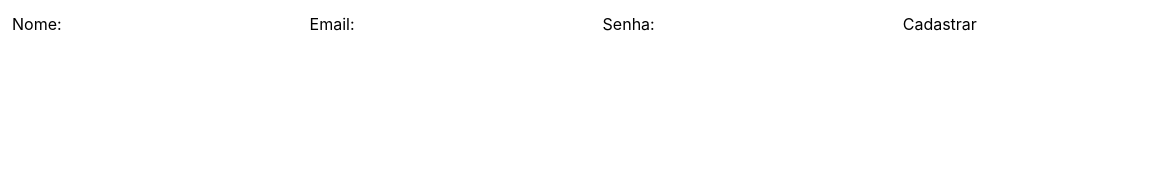
it: Test the Login page › Test registering › with already existed user
Type "Teste Teste Teste" into the field labelled "Nome:". click: [186, 24]
box: [62,12,310,36]
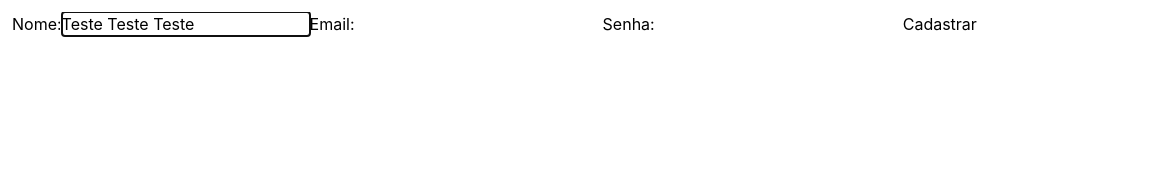
Type "test@email.com" into the field labelled "Email:". click: [479, 24]
box: [355,12,603,36]
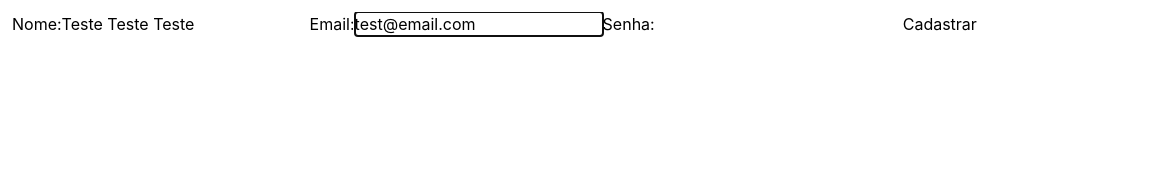
Type "12345678" into the password field labelled "Senha:". click: [779, 24]
box: [655,12,903,36]
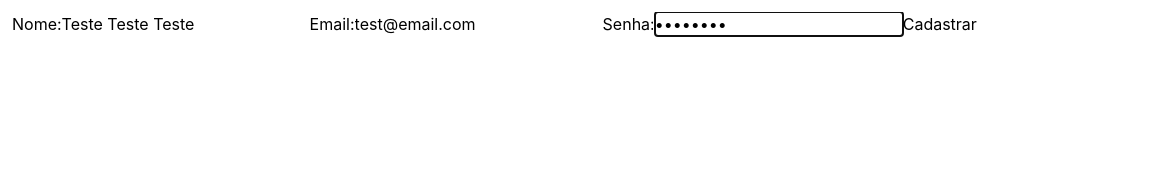
Click the button "Cadastrar". click: [940, 24]
box: [903,12,977,36]
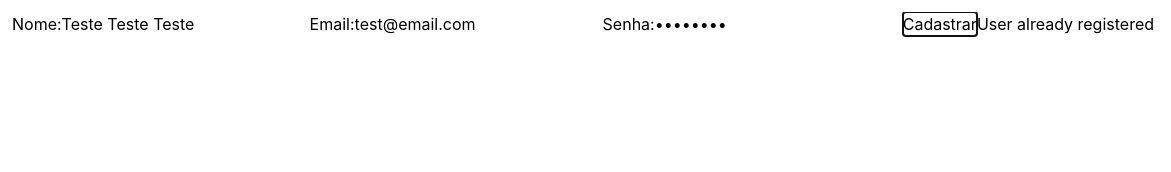
Result: the text "User already registered" is shown at [977,14,1154,34]
